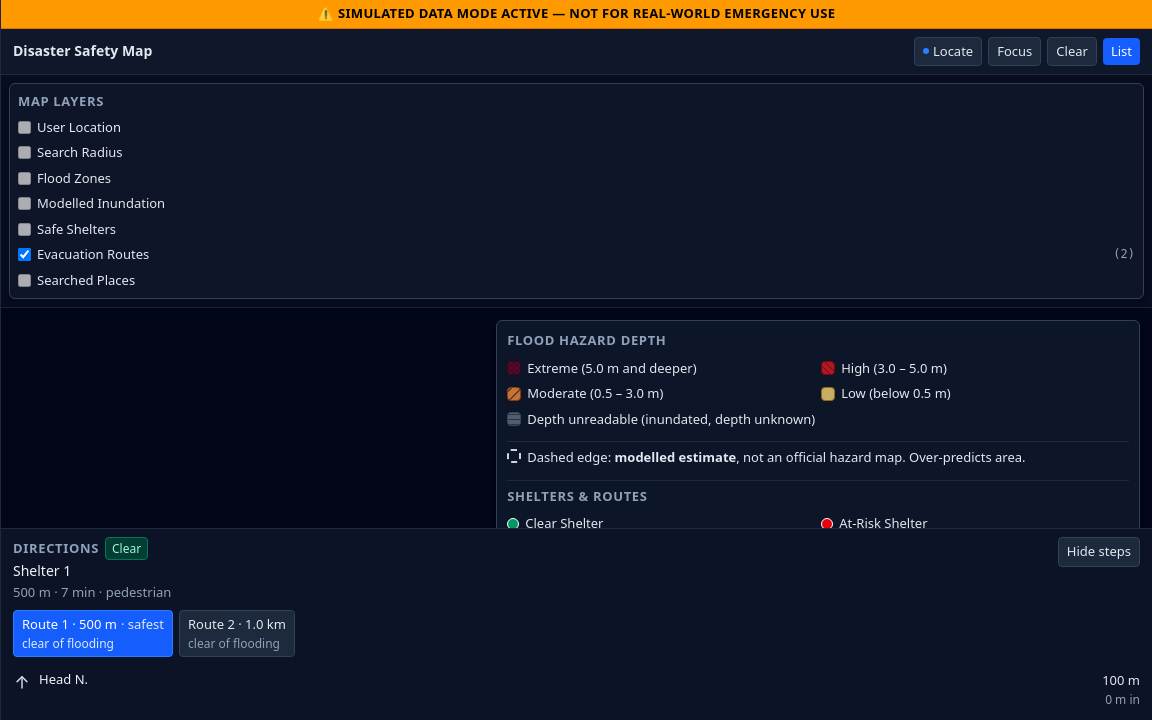
Scenario: MapPane Component (Phase 9, Checkpoint 9) › opens on the safest route and highlights only the one chosen (R3.7)
The image size is (1152, 720).
Expected: the text with test id "route-destination" reads "Shelter 1", left=13, top=561, right=71, bottom=580
Click the button with test id "route-option-2": (237, 634) left=179, top=610, right=295, bottom=657
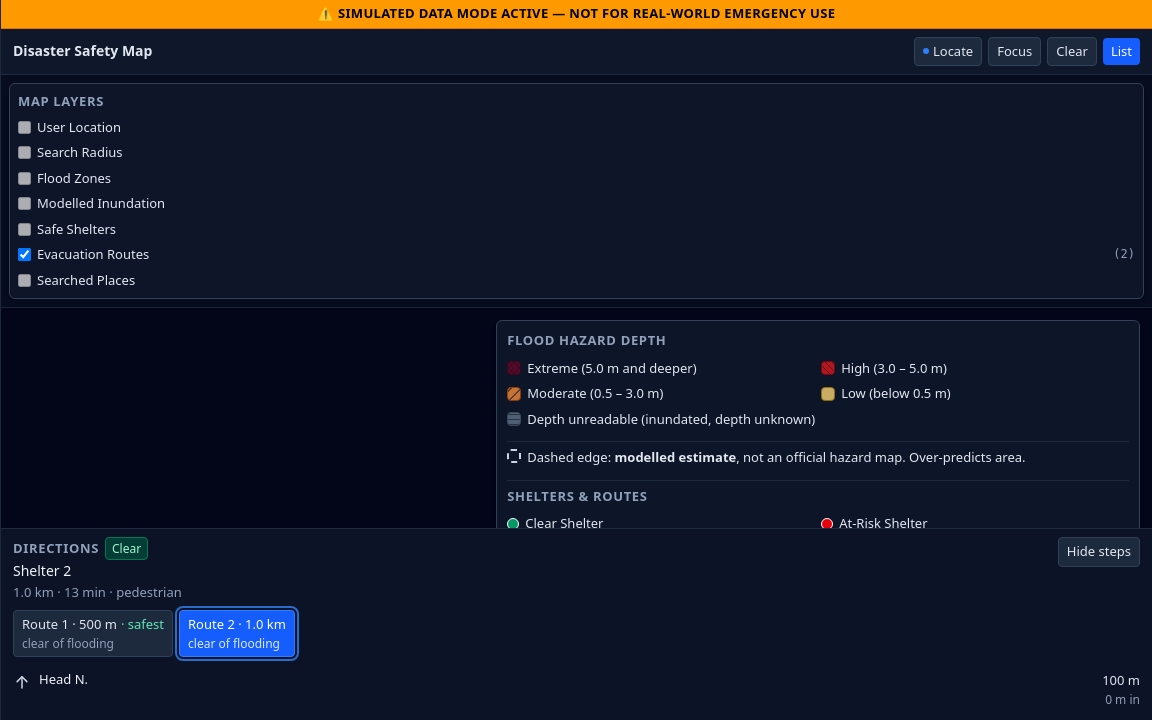
Expected: the text with test id "route-destination" reads "Shelter 2", left=13, top=561, right=71, bottom=580
